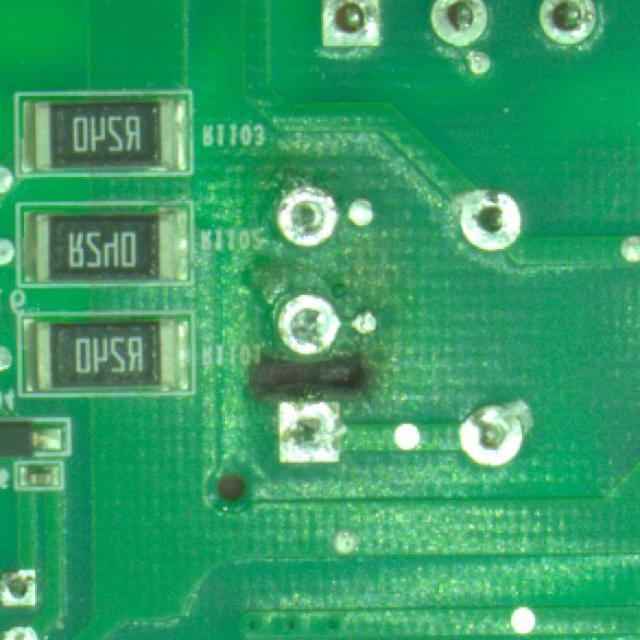Insufficient solder: (271, 394, 352, 474), (451, 176, 524, 264), (274, 180, 337, 259), (274, 295, 342, 365), (0, 564, 49, 608), (0, 624, 45, 640)
